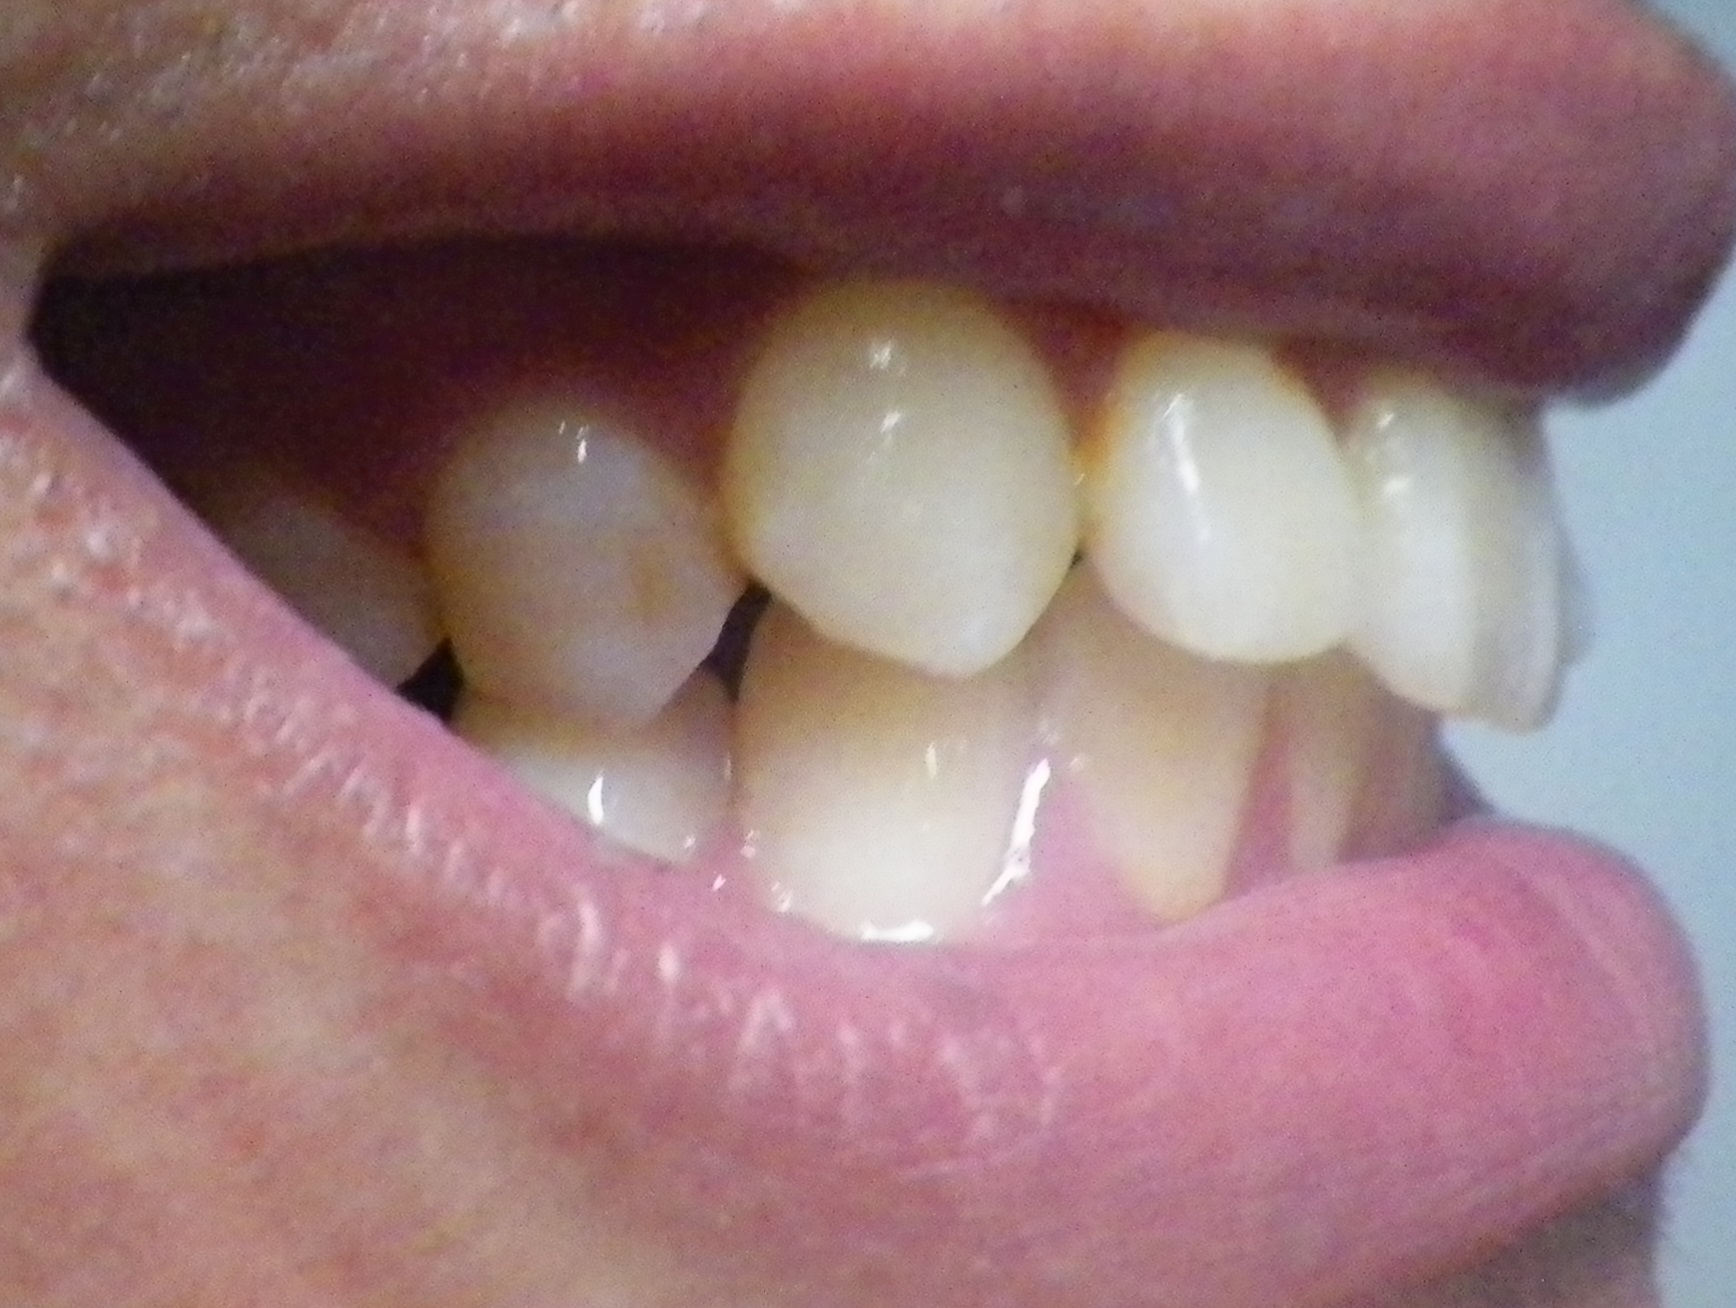boca: (212, 280, 1601, 954)
